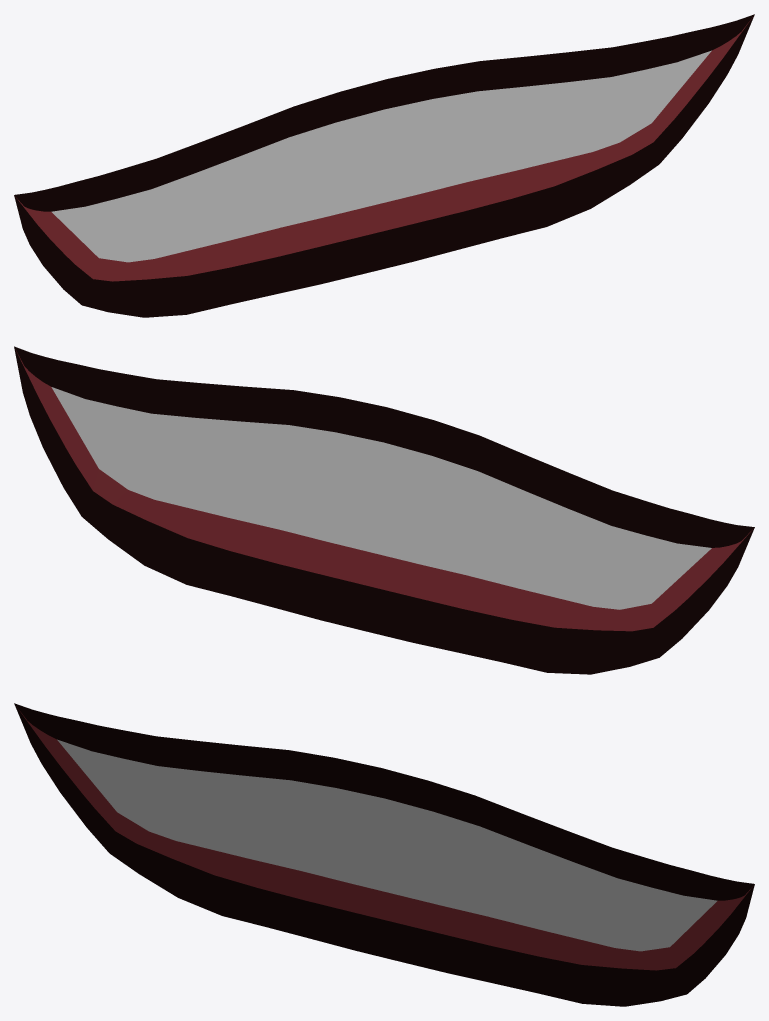
File: flip_f_v.glb
The picture shows the model from 3 angles, top to bottom: view 1: azimuth 30°, elevation 25°; view 2: azimuth 150°, elevation 25°; view 3: azimuth 330°, elevation 25°; orthographic projection.
Parts seen in each view (by area): view 1: flip_f_v; view 2: flip_f_v; view 3: flip_f_v.
Part boxes in pixels (x1=…): flip_f_v: x1=14, y1=14, x2=754, y2=317; flip_f_v: x1=14, y1=346, x2=754, y2=674; flip_f_v: x1=14, y1=703, x2=754, y2=1006.
Size of the model in its own units: 0.0781 by 0.0211 by 0.00376.
